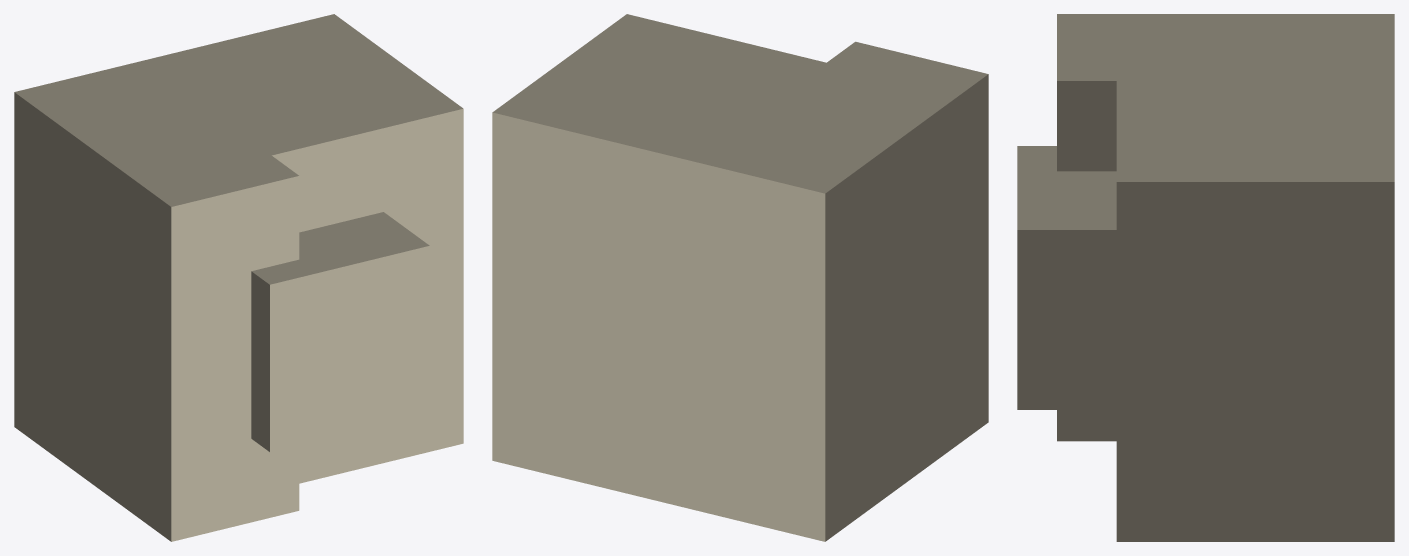
The model's file is step_0.glb.
The picture shows the model from 3 angles, left to right: view 1: azimuth 30°, elevation 25°; view 2: azimuth 150°, elevation 25°; view 3: azimuth 270°, elevation 25°; orthographic projection. The views are drawn at different scales.
Parts seen in each view (by area): view 1: stone.small.0; view 2: stone.small.0; view 3: stone.small.0.
Boxes of the visible parts, bbox=[...] form: stone.small.0: bbox=[14, 14, 463, 541]; stone.small.0: bbox=[492, 14, 988, 541]; stone.small.0: bbox=[1017, 14, 1394, 541].
Bounding box in the file's own units: 1 × 1 × 0.95.
